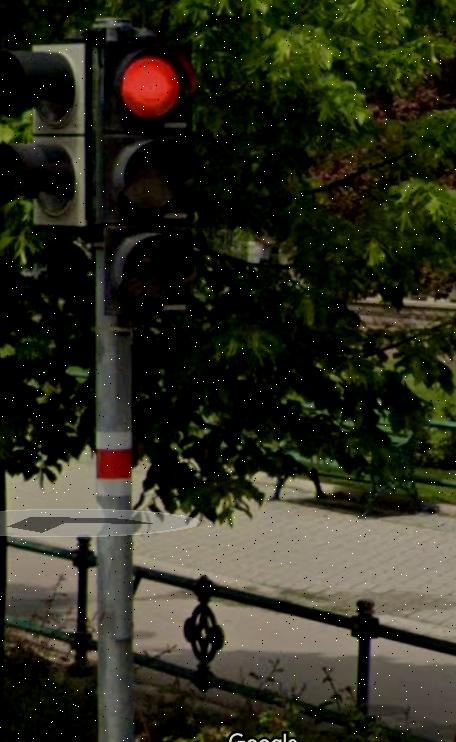redlight: (89, 33, 192, 322)
